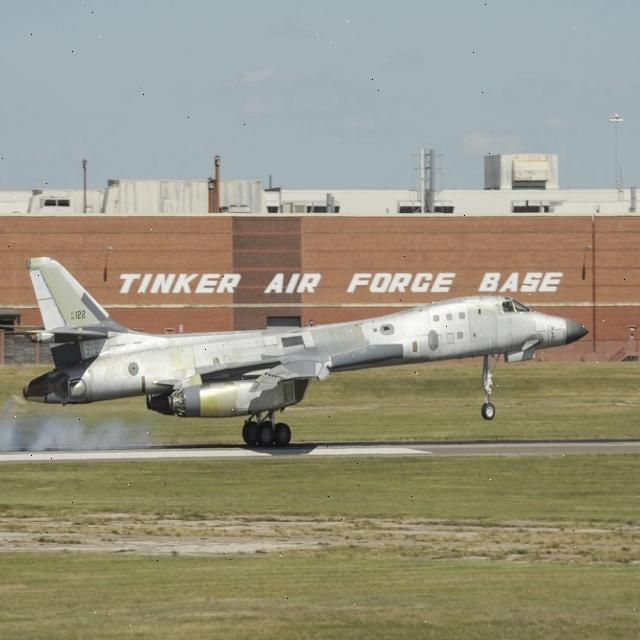B1: (9, 207, 605, 478)
